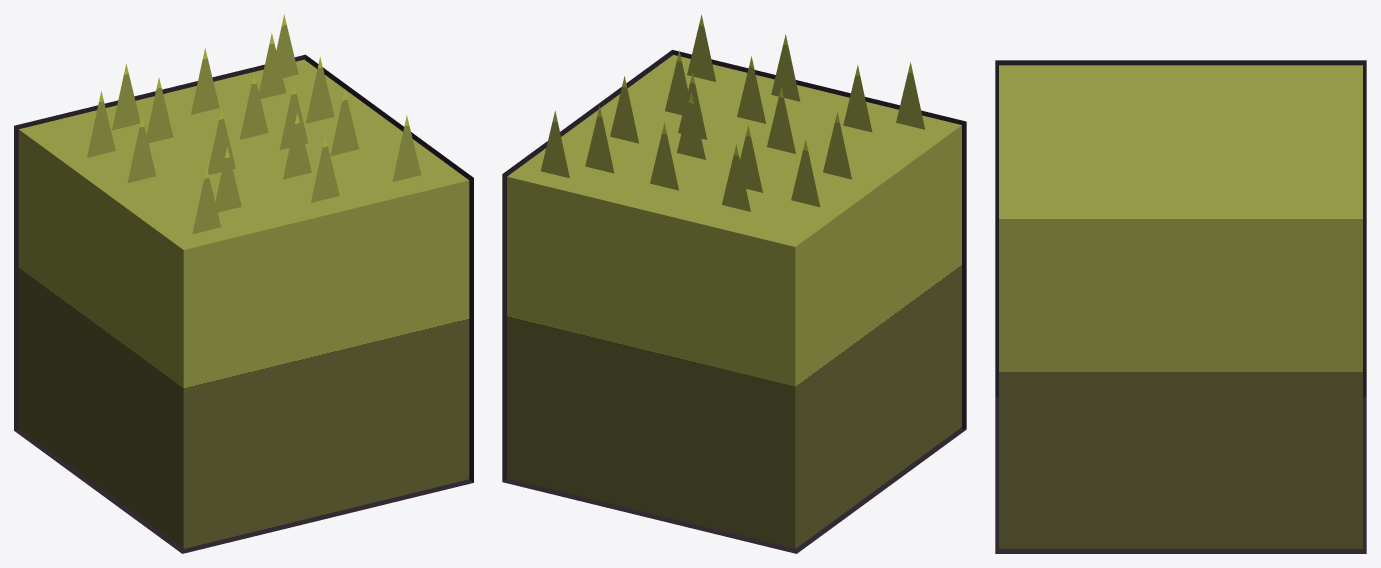
Rendered from grass.glb.
3 renders of one model, left to right at view 1: azimuth 30°, elevation 25°; view 2: azimuth 150°, elevation 25°; view 3: azimuth 270°, elevation 25°, orthographic. The views are drawn at different scales.
Parts seen in each view (by area): view 1: Grass, Outline; view 2: Grass, Outline; view 3: Grass, Outline.
Boxes of the visible parts, x1=… form: Grass: x1=18, y1=14, x2=469, y2=548; Outline: x1=14, y1=54, x2=473, y2=553; Grass: x1=507, y1=14, x2=961, y2=548; Outline: x1=502, y1=50, x2=966, y2=553; Grass: x1=999, y1=65, x2=1362, y2=548; Outline: x1=995, y1=60, x2=1366, y2=553.
Bounding box in the file's own units: 1 × 1.2 × 1.
Materials: 1 (1 with a texture image).
